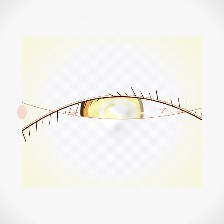corneal_ulcer: (86, 86, 150, 137)
